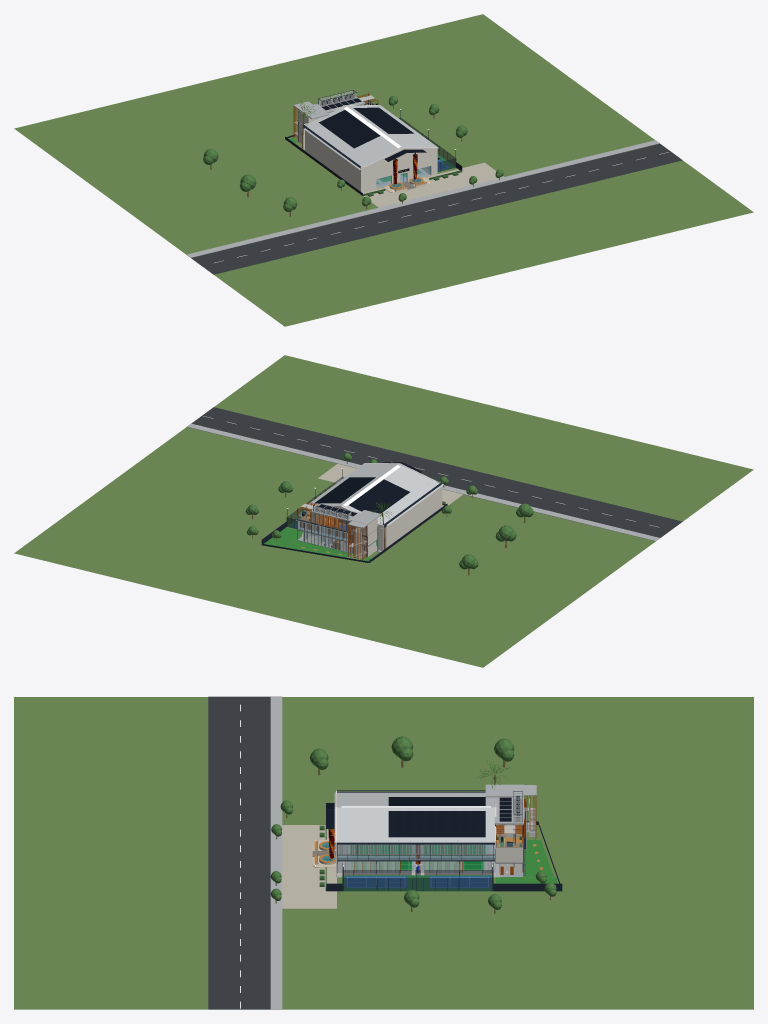
The model's file is MyPlace_Master_vR52.dae.
3 views of the same model, one above another, from view 1: azimuth 30°, elevation 25°; view 2: azimuth 150°, elevation 25°; view 3: azimuth 270°, elevation 25° (orthographic). The views are drawn at different scales.
Parts seen in each view (by area): view 1: site__grass, site__asphalt, hall_shell__plaster, hall_roof__roofSheet, site__concrete, hall_roof__solar, site__paving, trees__treeCrown; view 2: site__grass, site__asphalt, hall_roof__roofSheet, site__concrete, hall_roof__solar, hall_shell__plaster, trees__treeCrown, outdoor__turf, fences__charcoal, site__paving, rear_roof__concrete; view 3: site__grass, site__asphalt, hall_roof__roofSheet, site__concrete, site__paving, hall_roof__solar, outdoor__mat_1f2937, hall_shell__glass, trees__treeCrown, hall_interior__court, outdoor__pickleTex, hall_shell__glassFrost (+10 smaller).
Part boxes in pixels (<box>): site__grass: <box>14,14,753,326</box>; site__asphalt: <box>191,143,682,274</box>; hall_shell__plaster: <box>302,105,437,192</box>; hall_roof__roofSheet: <box>304,105,438,169</box>; site__concrete: <box>187,140,659,257</box>; hall_roof__solar: <box>319,107,413,148</box>; site__paving: <box>362,162,503,207</box>; trees__treeCrown: <box>203,96,503,211</box>; site__grass: <box>14,355,753,667</box>; site__asphalt: <box>191,407,682,537</box>; hall_roof__roofSheet: <box>308,463,443,525</box>; site__concrete: <box>186,423,659,551</box>; hall_roof__solar: <box>314,477,409,513</box>; hall_shell__plaster: <box>308,463,442,550</box>; trees__treeCrown: <box>245,452,533,569</box>; outdoor__turf: <box>264,527,371,561</box>; fences__charcoal: <box>261,503,447,562</box>; site__paving: <box>318,464,462,506</box>; rear_roof__concrete: <box>311,503,381,528</box>; site__grass: <box>14,697,753,1009</box>; site__asphalt: <box>208,696,270,1009</box>; hall_roof__roofSheet: <box>334,792,495,842</box>; site__concrete: <box>270,696,499,1009</box>; site__paving: <box>282,825,495,908</box>; hall_roof__solar: <box>388,797,485,837</box>; outdoor__mat_1f2937: <box>342,870,493,890</box>; hall_shell__glass: <box>337,844,494,859</box>; trees__treeCrown: <box>270,736,556,909</box>; hall_interior__court: <box>350,845,485,870</box>; outdoor__pickleTex: <box>345,876,490,888</box>; hall_shell__glassFrost: <box>337,861,495,872</box>.
Bounding box in the file's own units: 160 × 160 × 16.22.
Materials: 72 (6 with a texture image).
